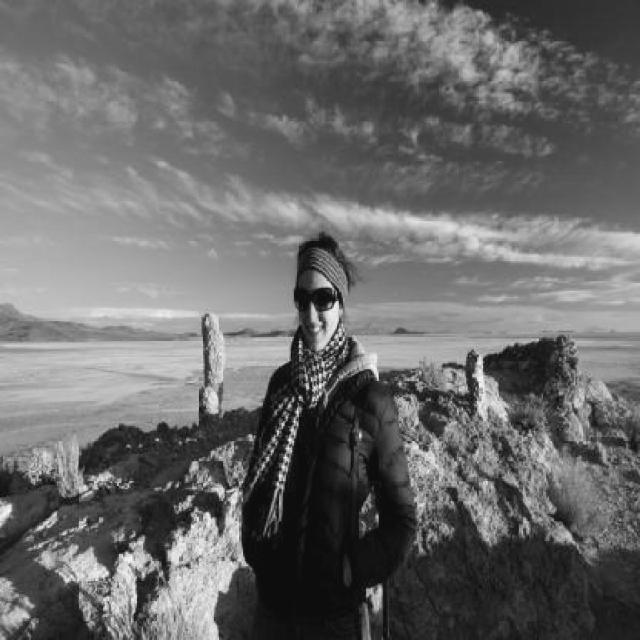face_nomask: (293, 288, 339, 340)
glasses: (294, 284, 341, 322)
head_nohelmet: (289, 231, 354, 283)
person: (237, 218, 403, 640)
